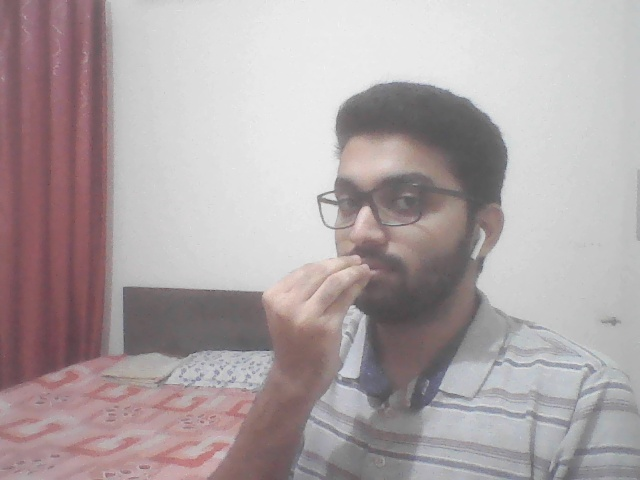eat: (247, 236, 396, 406)
